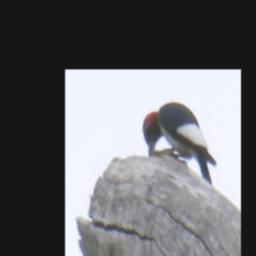Woodpecker: (139, 99, 220, 187)
